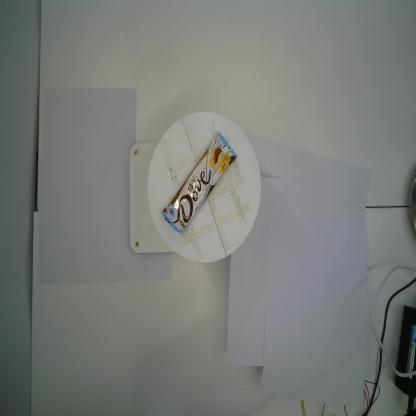Chocolate: (160, 130, 238, 235)
